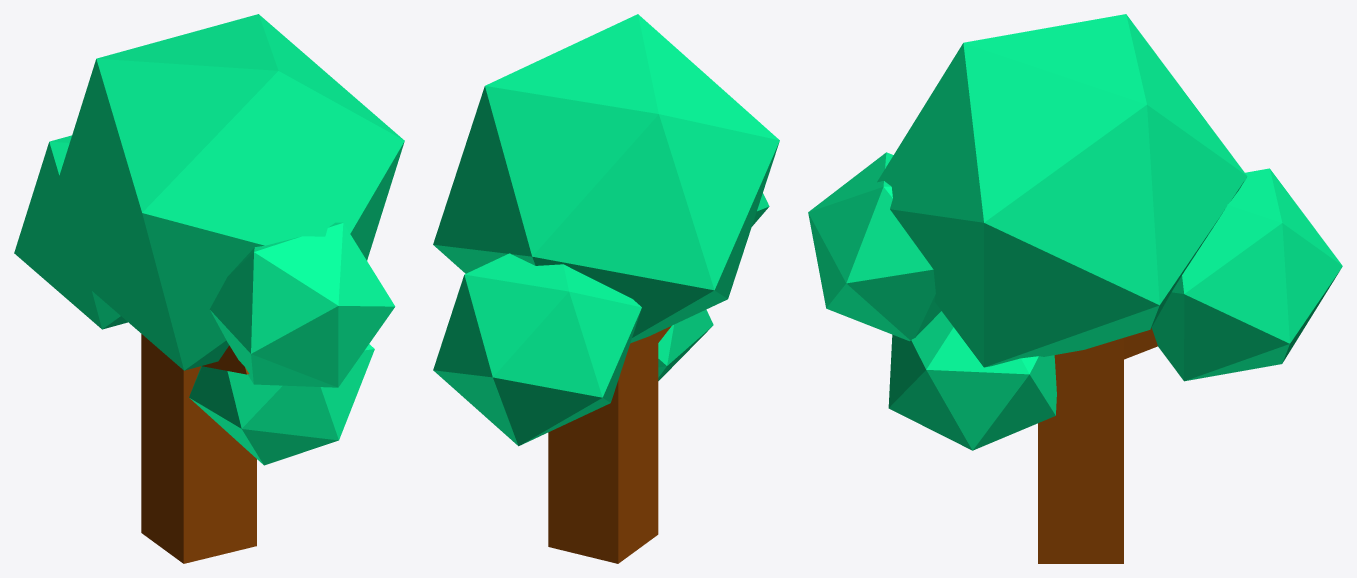
The model's file is wood7.fbx.
3 views of the same model, side by side, from view 1: azimuth 30°, elevation 25°; view 2: azimuth 150°, elevation 25°; view 3: azimuth 270°, elevation 25° (orthographic). The views are drawn at different scales.
Visible parts, largest first — view 1: wood.006; view 2: wood.006; view 3: wood.006.
Boxes of the visible parts, <box> form: wood.006: <box>14,14,404,563</box>; wood.006: <box>433,14,779,563</box>; wood.006: <box>808,14,1342,563</box>.
Size of the model in its own units: 169 by 275 by 259.
